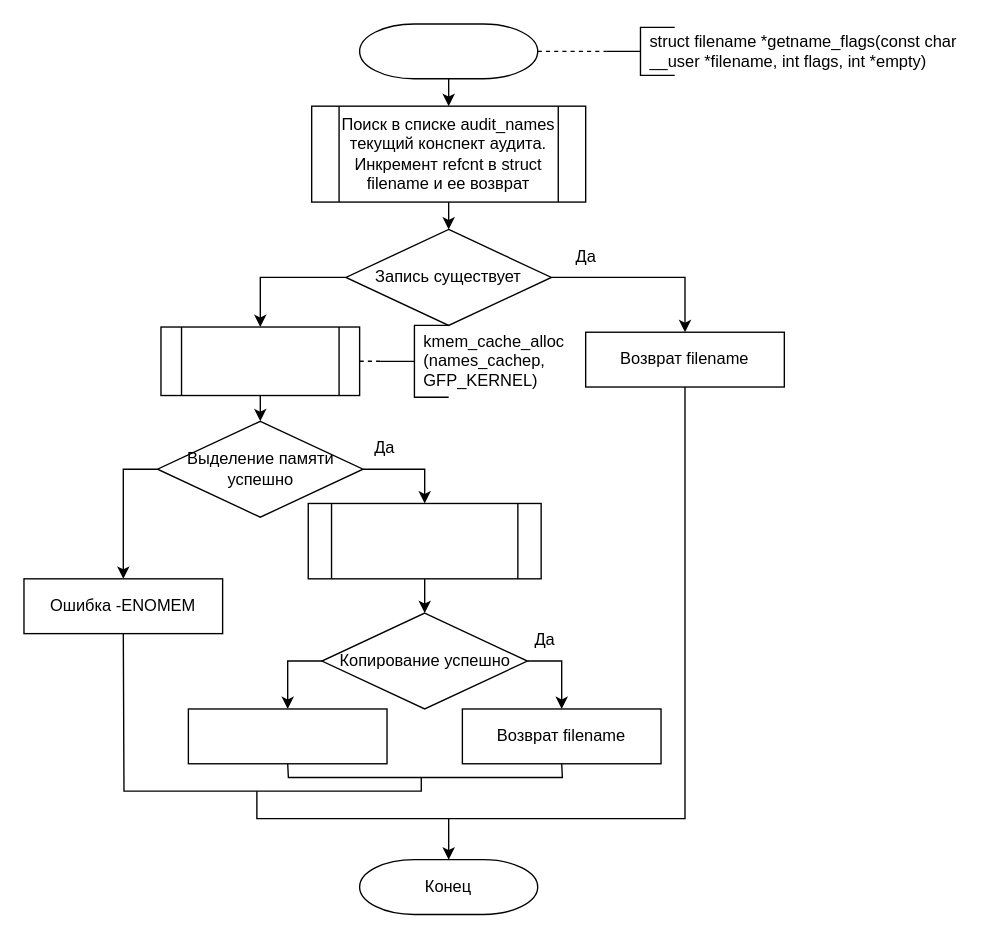
Some shapes in this 1000 by 938 pixel diagram are drawn without their labels. Each missing label, with the centre of its shape:
Выделение памяти под struct filename в Slab кэше: pixel 260 361
Копирование названия файла из пространства пользователя в пространство ядра: pixel 424 540
Начало: pixel 448 51
Освобождение памяти, возврат ошибки: pixel 287 736
